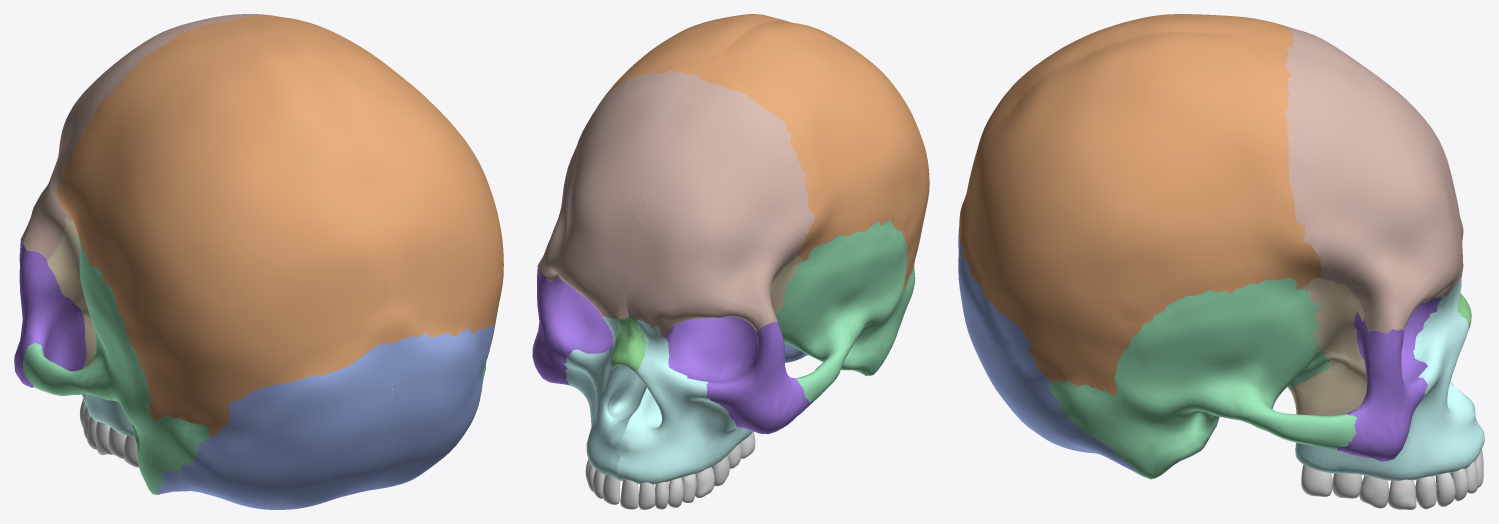
The model's file is WholeCranium.fbx.
The picture shows the model from 3 angles, left to right: view 1: azimuth 30°, elevation 25°; view 2: azimuth 150°, elevation 25°; view 3: azimuth 270°, elevation 25°; orthographic projection. The views are drawn at different scales.
Visible parts, largest first — view 1: Parietale, Occipitale, Teporale, Frontale, ZYGOMATIC, Sphenoidale, Teeth, Maxilla; view 2: Frontale, Parietale, Maxilla, ZYGOMATIC, Teporale, Teeth, Nasale, Sphenoidale; view 3: Parietale, Frontale, Teporale, Maxilla, Occipitale, ZYGOMATIC, Sphenoidale, Teeth.
Part boxes in pixels (x1,y1,x2,y2): Parietale: (57, 15, 503, 436); Occipitale: (156, 324, 493, 509); Teporale: (23, 236, 486, 494); Frontale: (20, 14, 279, 260); ZYGOMATIC: (14, 241, 86, 387); Sphenoidale: (47, 218, 95, 366); Teeth: (79, 398, 138, 467); Maxilla: (82, 366, 134, 436); Frontale: (537, 70, 814, 335); Parietale: (591, 14, 929, 290); Maxilla: (564, 316, 752, 484); ZYGOMATIC: (532, 268, 812, 434); Teporale: (775, 220, 915, 402); Teeth: (585, 431, 755, 509); Nasale: (611, 316, 646, 372); Sphenoidale: (770, 256, 802, 314); Parietale: (959, 14, 1321, 395); Frontale: (1284, 27, 1463, 333); Teporale: (1049, 277, 1356, 479); Maxilla: (1295, 275, 1484, 480); Occipitale: (958, 226, 1138, 474); ZYGOMATIC: (1337, 296, 1442, 461); Sphenoidale: (1288, 278, 1367, 415); Teeth: (1301, 449, 1483, 509).
Bounding box in the file's own units: 640 × 835 × 880.
